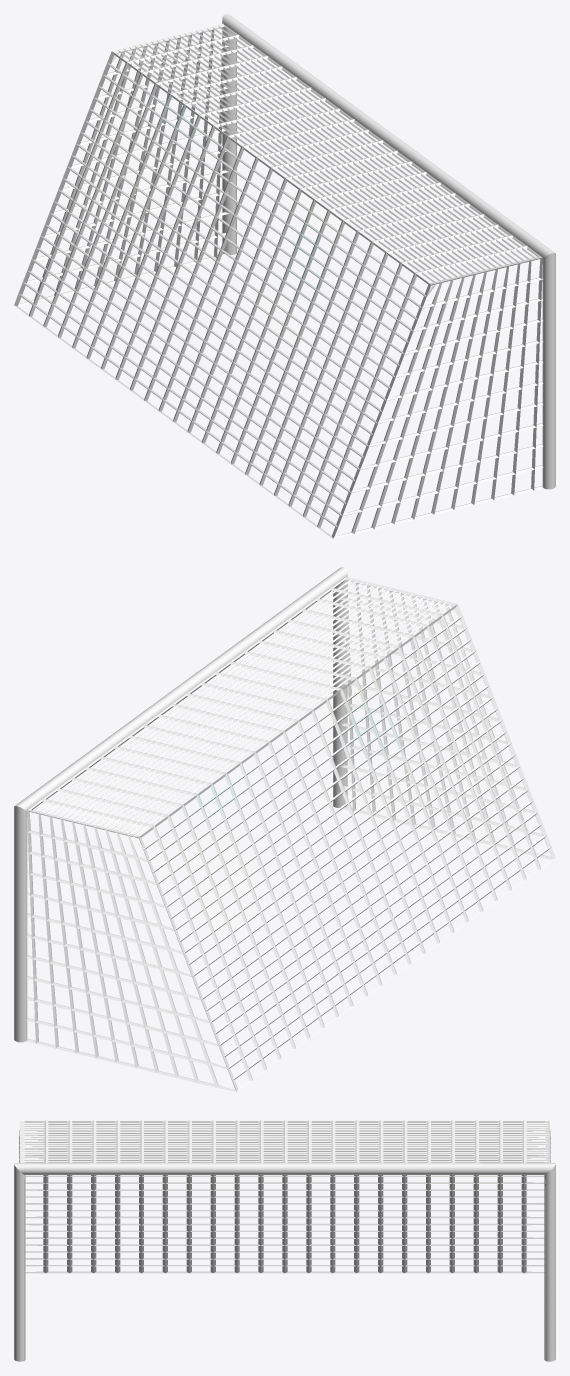
The model's file is ArcoDeFutbol.fbx.
3 renders of one model, top to bottom at view 1: azimuth 30°, elevation 25°; view 2: azimuth 150°, elevation 25°; view 3: azimuth 270°, elevation 25°, orthographic. The views are drawn at different scales.
Visible parts, largest first — view 1: Cube, Cylinder; view 2: Cube, Cylinder; view 3: Cube, Cylinder.
Boxes of the visible parts, x1,y1,x2,y2 form: Cube: (14,23,543,538); Cylinder: (222,14,555,489); Cube: (26,576,555,1091); Cylinder: (14,567,347,1042); Cube: (19,1120,550,1361); Cylinder: (14,1163,555,1361).
Bounding box in the file's own units: 202 × 206 × 515.
Materials: 1 (1 with a texture image).
